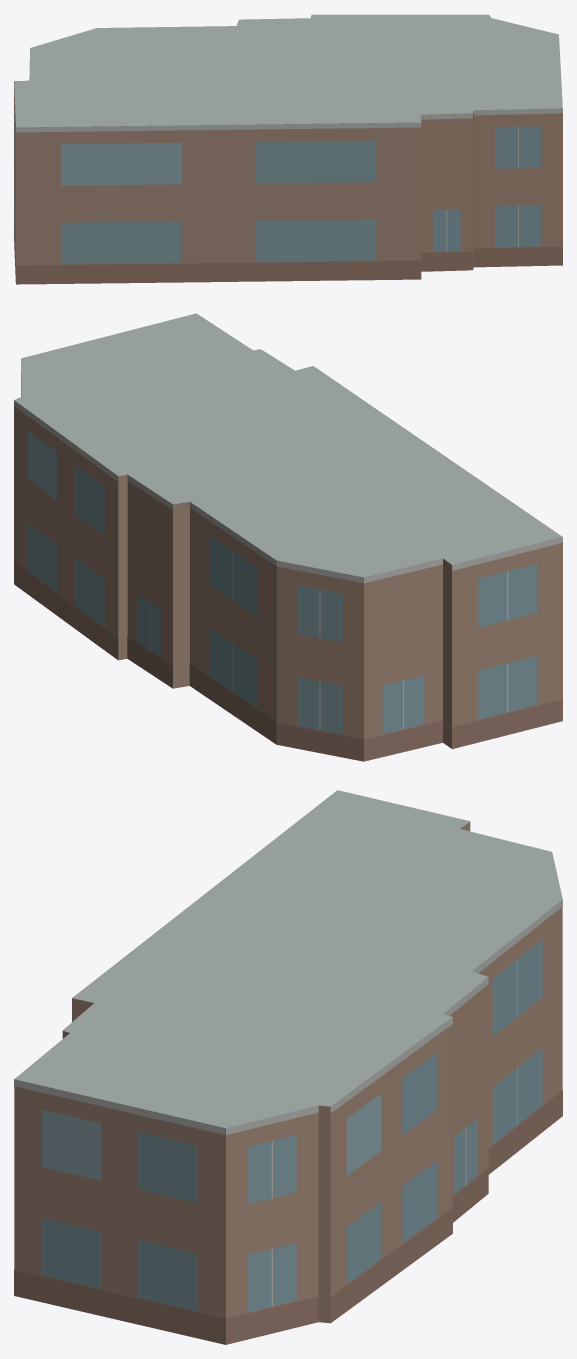
The model's file is survey-upis-32911040.glb.
The picture shows the model from 3 angles, top to bottom: view 1: azimuth 30°, elevation 25°; view 2: azimuth 150°, elevation 25°; view 3: azimuth 270°, elevation 25°; orthographic projection. The views are drawn at different scales.
Visible parts, largest first — view 1: survey-upis-32911040.tmp; view 2: survey-upis-32911040.tmp; view 3: survey-upis-32911040.tmp.
Part boxes in pixels (left/top/right/bottom): survey-upis-32911040.tmp: left=14, top=14, right=562, bottom=284; survey-upis-32911040.tmp: left=14, top=313, right=562, bottom=761; survey-upis-32911040.tmp: left=14, top=790, right=562, bottom=1344.
Size of the model in its own units: 25.46 by 7.6 by 17.46.
